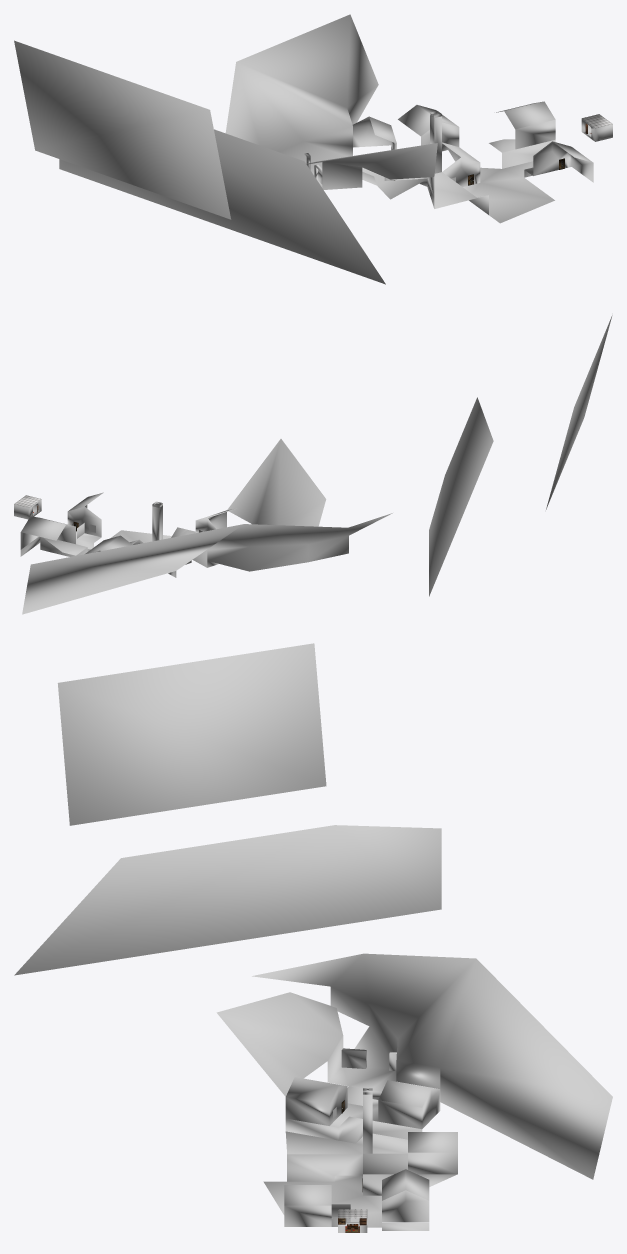
The model's file is ImpaOffice.obj.
3 renders of one model, top to bottom at view 1: azimuth 30°, elevation 25°; view 2: azimuth 150°, elevation 25°; view 3: azimuth 270°, elevation 25°, orthographic. The views are drawn at different scales.
Parts seen in each view (by area): view 1: ImpaOffice_Credits__DeathMountain#SFX_2, ImpaOffice_Credits__MountainCliffs#SFX_2, ImpaOffice_Credits__MountainRange#SFX_2, ImpaOffice_Credits__DarkGrass#SFX_2#ShiftS02#ShiftT02#MultiAlpha, ImpaOffice_Credits__Grass#SFX_2#ShiftS02#ShiftT02#MultiShiftS-1#, ImpaOffice_Credits__PurpleShingles#SFX_2, ImpaOffice_Credits__HouseWall#SFX_2, ImpaOffice_Credits__HouseMetalWall#SFX_2, ImpaOffice_Credits__HouseBrickDark#SFX_2, ImpaOffice_Credits__BrickWallLight#SFX_2, ImpaOffice_Credits__RedShingles#SFX_2, ImpaOffice_Credits__Tower#SFX_2#BackfaceCulling (+1 smaller); view 2: ImpaOffice_Credits__MountainCliffs#SFX_2, ImpaOffice_Credits__DarkGrass#SFX_2#ShiftS02#ShiftT02#MultiAlpha, ImpaOffice_Credits__MountainRange#SFX_2, ImpaOffice_Credits__DeathMountain#SFX_2, ImpaOffice_Credits__PurpleShingles#SFX_2, ImpaOffice_Credits__HouseBrickDark#SFX_2, ImpaOffice_Credits__BrickWallLight#SFX_2, ImpaOffice_Credits__Grass#SFX_2#ShiftS02#ShiftT02#MultiShiftS-1#, ImpaOffice_Credits__HouseMetalWall#SFX_2, ImpaOffice_Credits__HouseBrick#SFX_2, ImpaOffice_Credits__Tower#SFX_2#BackfaceCulling; view 3: ImpaOffice_Credits__DeathMountain#SFX_2, ImpaOffice_Credits__MountainRange#SFX_2, ImpaOffice_Credits__MountainCliffs#SFX_2, ImpaOffice_Credits__DarkGrass#SFX_2#ShiftS02#ShiftT02#MultiAlpha, ImpaOffice_Credits__HouseMetalWall#SFX_2, ImpaOffice_Credits__RedShingles#SFX_2, ImpaOffice_Credits__Grass#SFX_2#ShiftS02#ShiftT02#MultiShiftS-1#, ImpaOffice_Credits__PurpleShingles#SFX_2, ImpaOffice_Credits__StonePath#SFX_2, ImpaOffice_Credits__HouseWall#SFX_2, ImpaOffice_Credits__HouseBrick#SFX_2, ImpaOffice_Credits__BrickWallLight#SFX_2 (+4 smaller).
Boxes of the visible parts, box(x1,y1,x2,y2) form: ImpaOffice_Credits__DeathMountain#SFX_2: box(14, 40, 231, 219); ImpaOffice_Credits__MountainCliffs#SFX_2: box(225, 14, 378, 189); ImpaOffice_Credits__MountainRange#SFX_2: box(59, 129, 385, 284); ImpaOffice_Credits__DarkGrass#SFX_2#ShiftS02#ShiftT02#MultiAlpha: box(306, 139, 533, 208); ImpaOffice_Credits__Grass#SFX_2#ShiftS02#ShiftT02#MultiShiftS-1#: box(362, 161, 554, 223); ImpaOffice_Credits__PurpleShingles#SFX_2: box(398, 101, 555, 136); ImpaOffice_Credits__HouseWall#SFX_2: box(352, 116, 480, 186); ImpaOffice_Credits__HouseMetalWall#SFX_2: box(421, 119, 555, 151); ImpaOffice_Credits__HouseBrickDark#SFX_2: box(533, 141, 593, 182); ImpaOffice_Credits__BrickWallLight#SFX_2: box(304, 139, 555, 184); ImpaOffice_Credits__RedShingles#SFX_2: box(369, 116, 593, 162); ImpaOffice_Credits__Tower#SFX_2#BackfaceCulling: box(430, 111, 441, 173); ImpaOffice_Credits__MountainCliffs#SFX_2: box(22, 513, 392, 614); ImpaOffice_Credits__DarkGrass#SFX_2#ShiftS02#ShiftT02#MultiAlpha: box(43, 439, 326, 555); ImpaOffice_Credits__MountainRange#SFX_2: box(429, 397, 493, 596); ImpaOffice_Credits__DeathMountain#SFX_2: box(546, 315, 612, 509); ImpaOffice_Credits__PurpleShingles#SFX_2: box(21, 516, 132, 553); ImpaOffice_Credits__HouseBrickDark#SFX_2: box(67, 505, 101, 537); ImpaOffice_Credits__BrickWallLight#SFX_2: box(20, 536, 218, 567); ImpaOffice_Credits__Grass#SFX_2#ShiftS02#ShiftT02#MultiShiftS-1#: box(87, 530, 207, 567); ImpaOffice_Credits__HouseMetalWall#SFX_2: box(20, 508, 236, 552); ImpaOffice_Credits__HouseBrick#SFX_2: box(195, 512, 226, 532); ImpaOffice_Credits__Tower#SFX_2#BackfaceCulling: box(152, 501, 162, 541); ImpaOffice_Credits__DeathMountain#SFX_2: box(57, 643, 326, 825); ImpaOffice_Credits__MountainRange#SFX_2: box(14, 825, 441, 975); ImpaOffice_Credits__MountainCliffs#SFX_2: box(252, 953, 612, 1179); ImpaOffice_Credits__DarkGrass#SFX_2#ShiftS02#ShiftT02#MultiAlpha: box(216, 992, 407, 1226); ImpaOffice_Credits__HouseMetalWall#SFX_2: box(286, 1077, 457, 1222); ImpaOffice_Credits__RedShingles#SFX_2: box(284, 1080, 430, 1205); ImpaOffice_Credits__Grass#SFX_2#ShiftS02#ShiftT02#MultiShiftS-1#: box(263, 1099, 381, 1226); ImpaOffice_Credits__PurpleShingles#SFX_2: box(382, 1132, 457, 1200); ImpaOffice_Credits__StonePath#SFX_2: box(328, 1026, 396, 1091); ImpaOffice_Credits__HouseWall#SFX_2: box(363, 1088, 440, 1195); ImpaOffice_Credits__HouseBrick#SFX_2: box(285, 1084, 347, 1125); ImpaOffice_Credits__BrickWallLight#SFX_2: box(341, 1048, 457, 1230).
Size of what is drawn, in the model's own units: 434 by 189 by 346.
